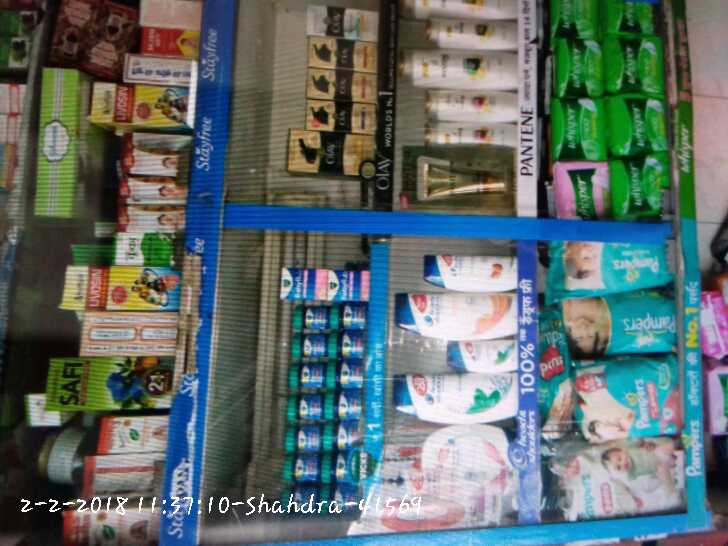vicks: (271, 266, 370, 519)
